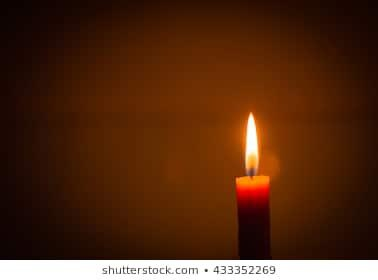fire: (240, 109, 260, 175)
